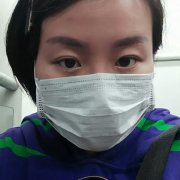face_mask: (33, 0, 159, 153)
